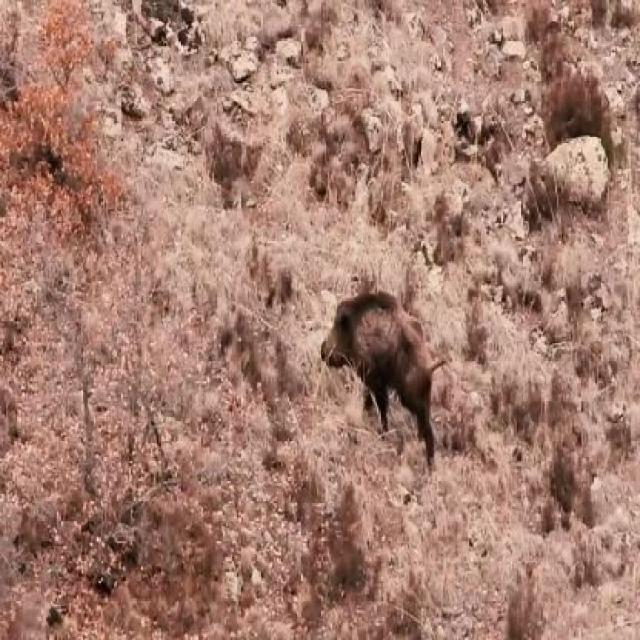pig: (306, 289, 444, 471)
